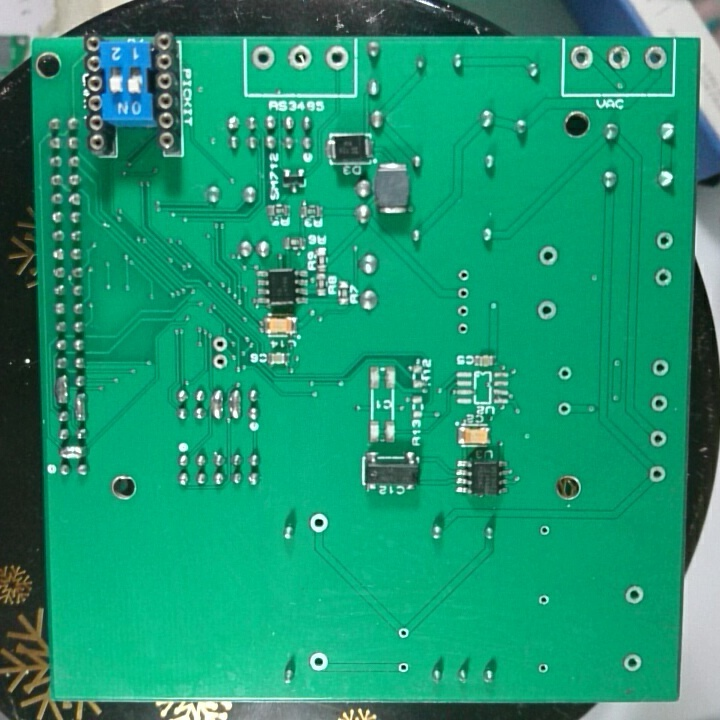F: (286, 43, 314, 73), (605, 42, 632, 73), (249, 44, 277, 72), (642, 42, 668, 72), (568, 43, 594, 72), (324, 45, 350, 72), (535, 297, 559, 325), (621, 649, 644, 677), (622, 583, 648, 607), (537, 243, 561, 269), (307, 511, 331, 536), (307, 649, 330, 672), (654, 229, 677, 251), (652, 266, 674, 289), (651, 356, 671, 380), (648, 392, 669, 414), (647, 463, 667, 486), (647, 428, 668, 449), (554, 399, 575, 420), (553, 362, 574, 383), (453, 300, 473, 320), (211, 352, 231, 372), (454, 265, 473, 285), (454, 283, 474, 302), (454, 319, 473, 338), (211, 334, 229, 354), (535, 658, 552, 678), (394, 623, 411, 643), (395, 658, 411, 676), (537, 520, 552, 539), (536, 591, 551, 609)
P: (53, 371, 72, 406), (226, 386, 243, 423), (210, 387, 227, 423), (56, 443, 89, 461), (71, 392, 89, 424)
